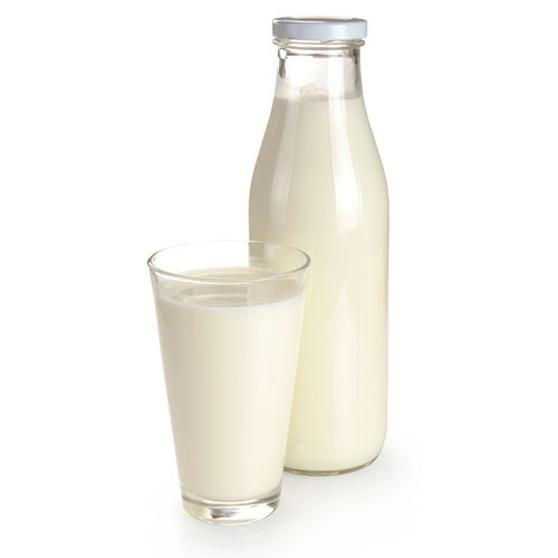milk: (239, 8, 397, 480)
